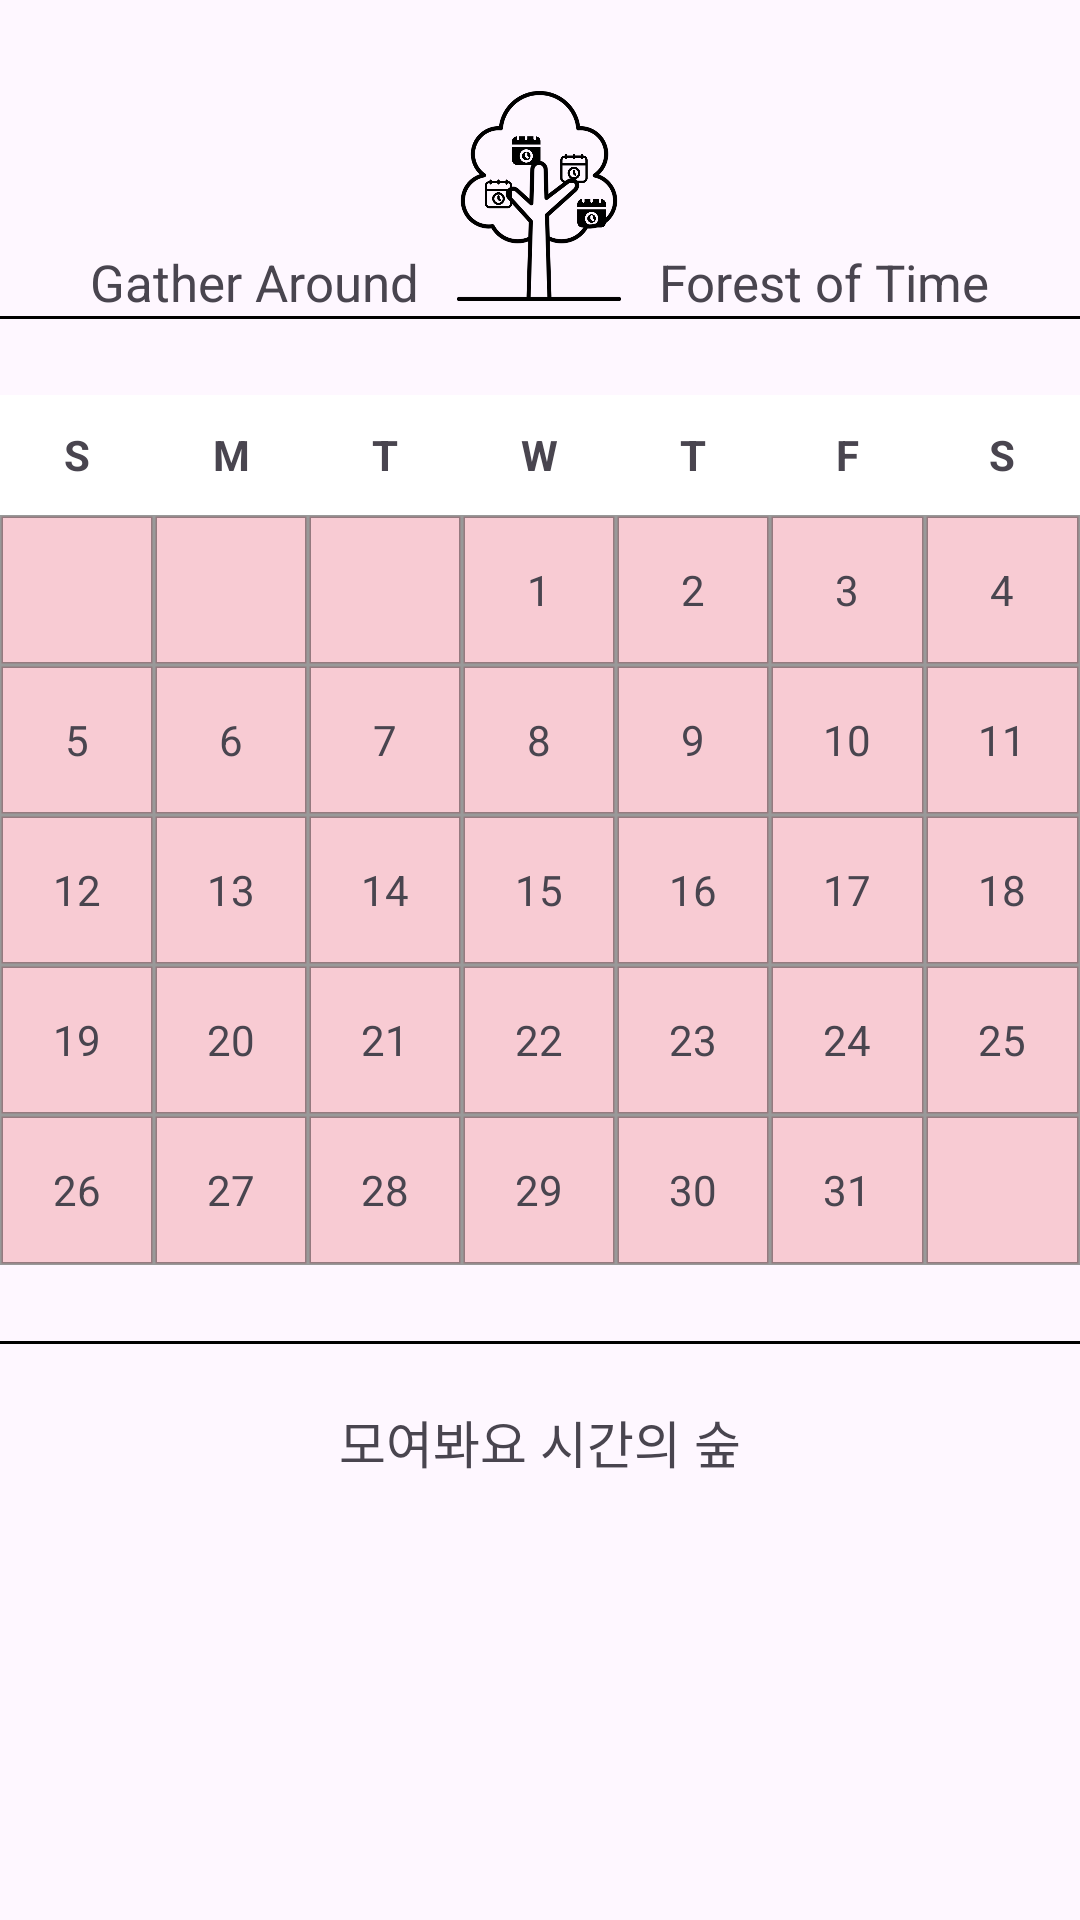

Icon bounding boxes for this 1080px x 1920px phone screenshot, format (x1, y1, x2, y2):
tree: (457, 91, 621, 301)
